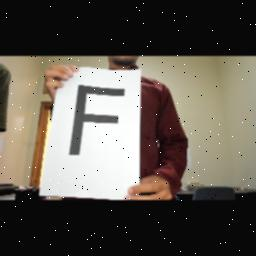f: (64, 82, 134, 162)
